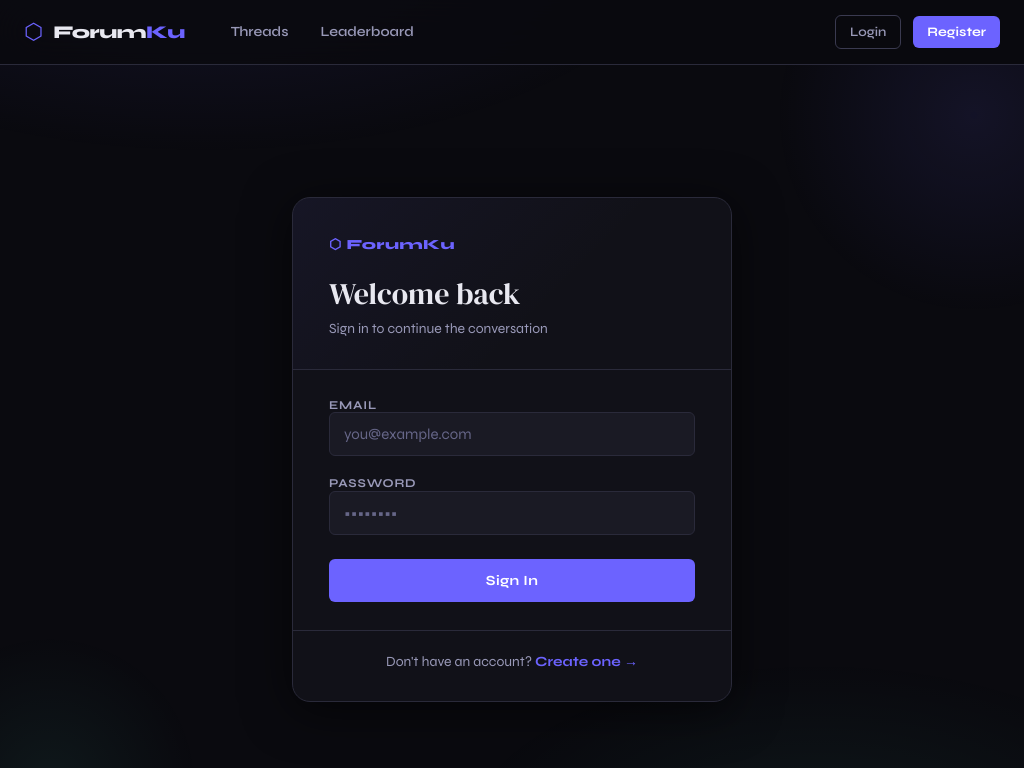
Test: Login Flow › should successfully login and redirect to home page
In the field labelled "Email": (512,434) 329,412 -> 695,456, type "john@example.com"
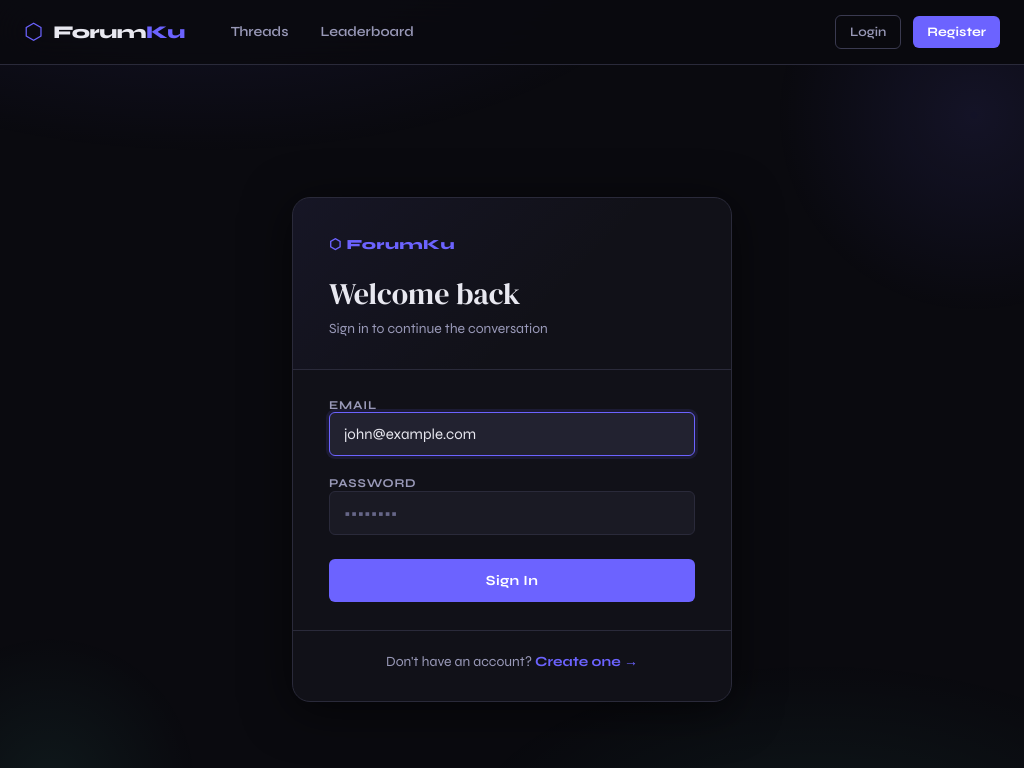
In the password field labelled "Password": (512,512) 329,490 -> 695,534, type "password123"
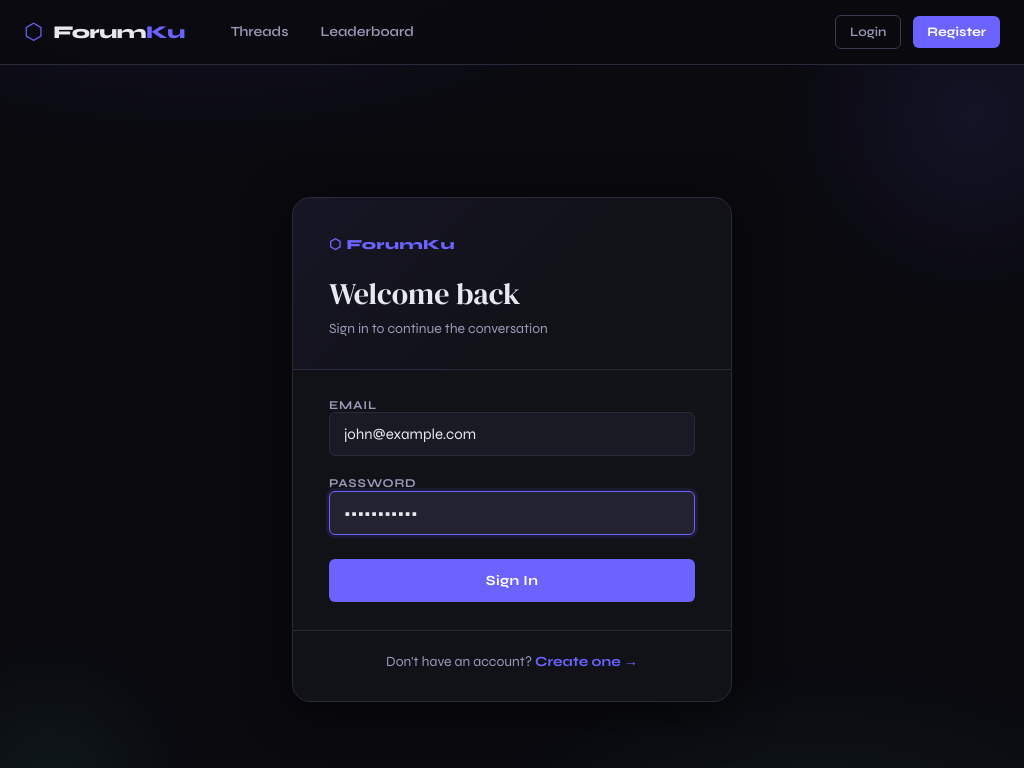
Click the submit button: (512,580) 329,558 -> 695,601
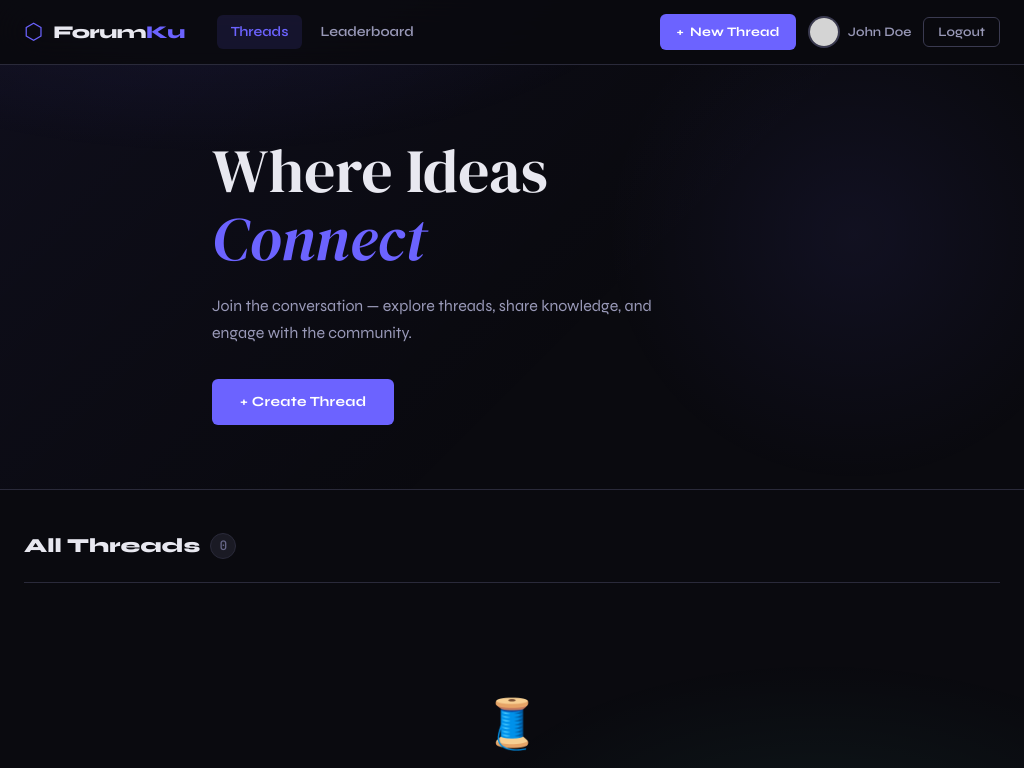
Result: the text "John Doe" is shown at 848,22 -> 911,42
